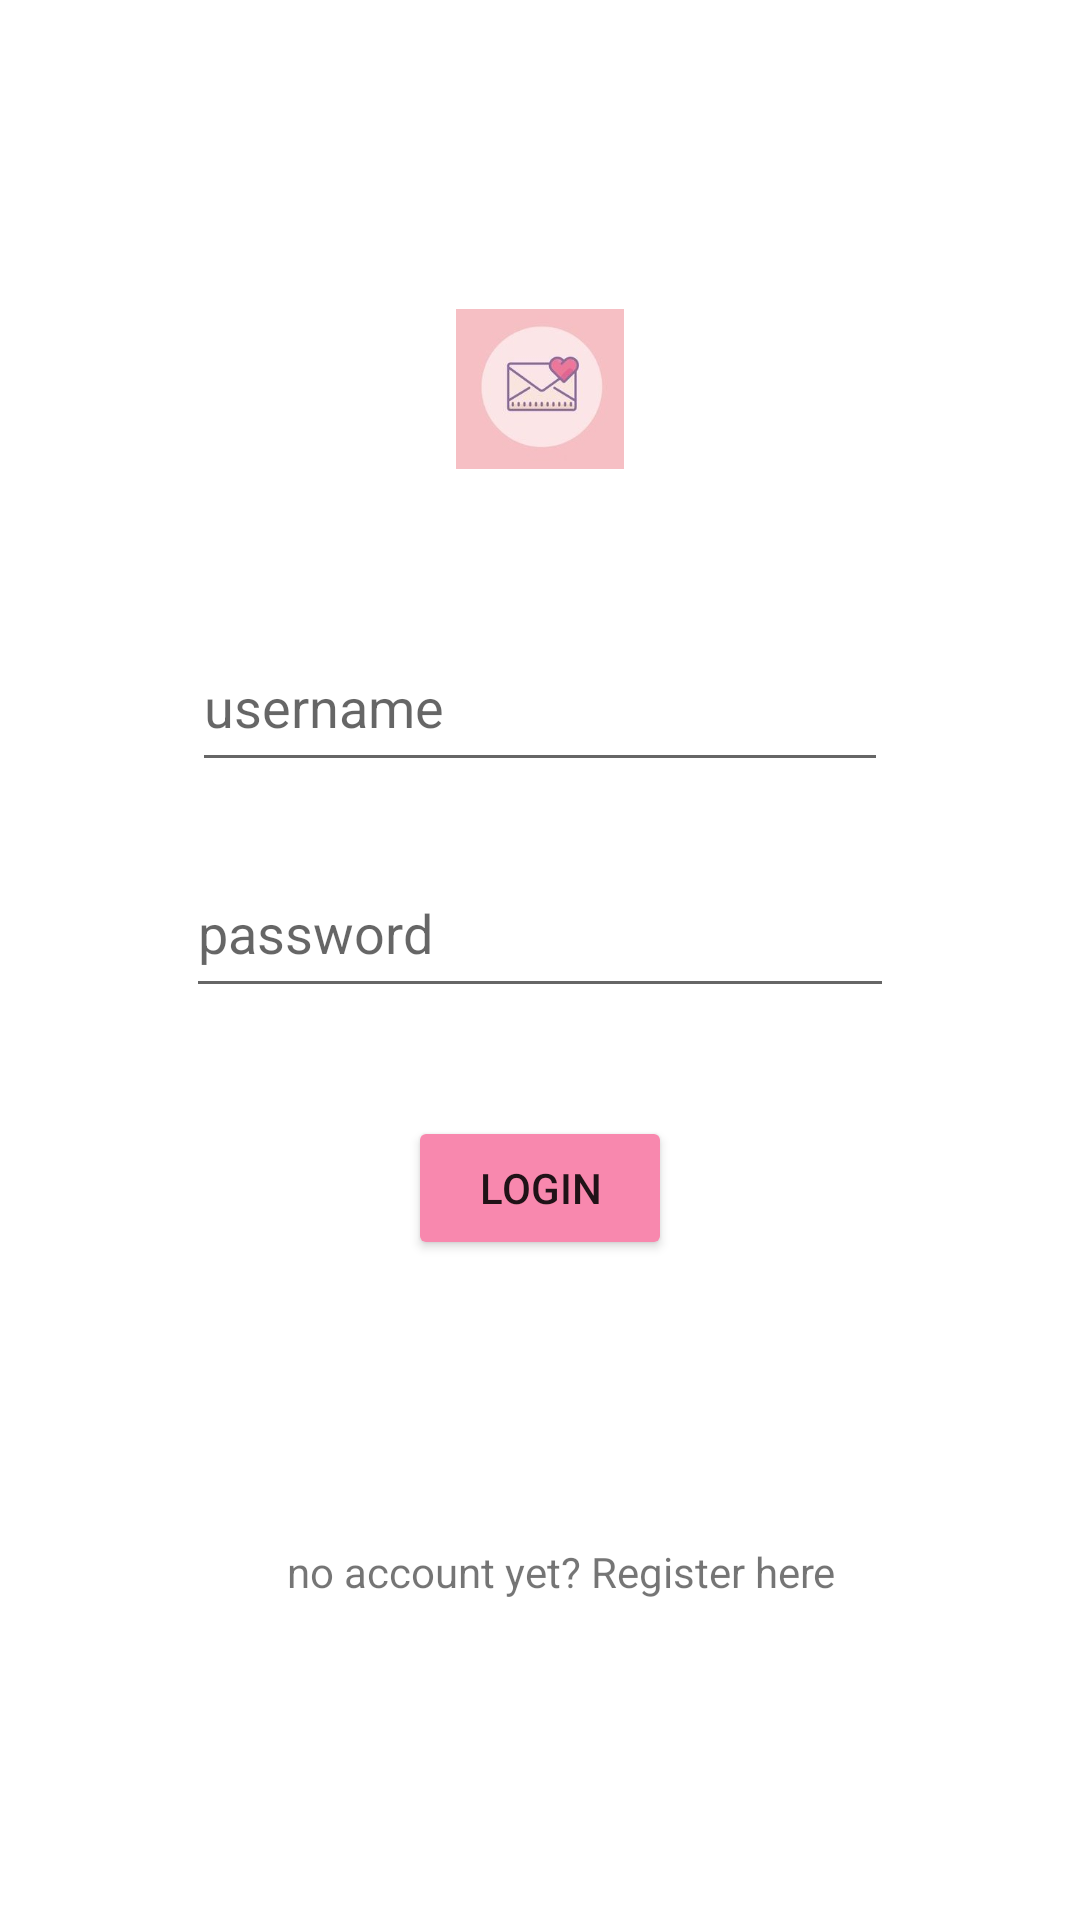

Icon bounding boxes for this 1080px×1920px phone screenshot, format {"left": x1, "top": y1, "right": x2, "bottom": y2}:
mail: {"left": 456, "top": 309, "right": 624, "bottom": 469}
